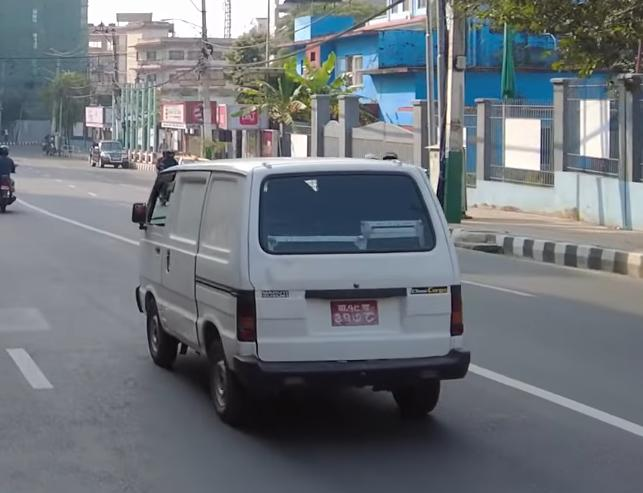van: (124, 152, 479, 428)
